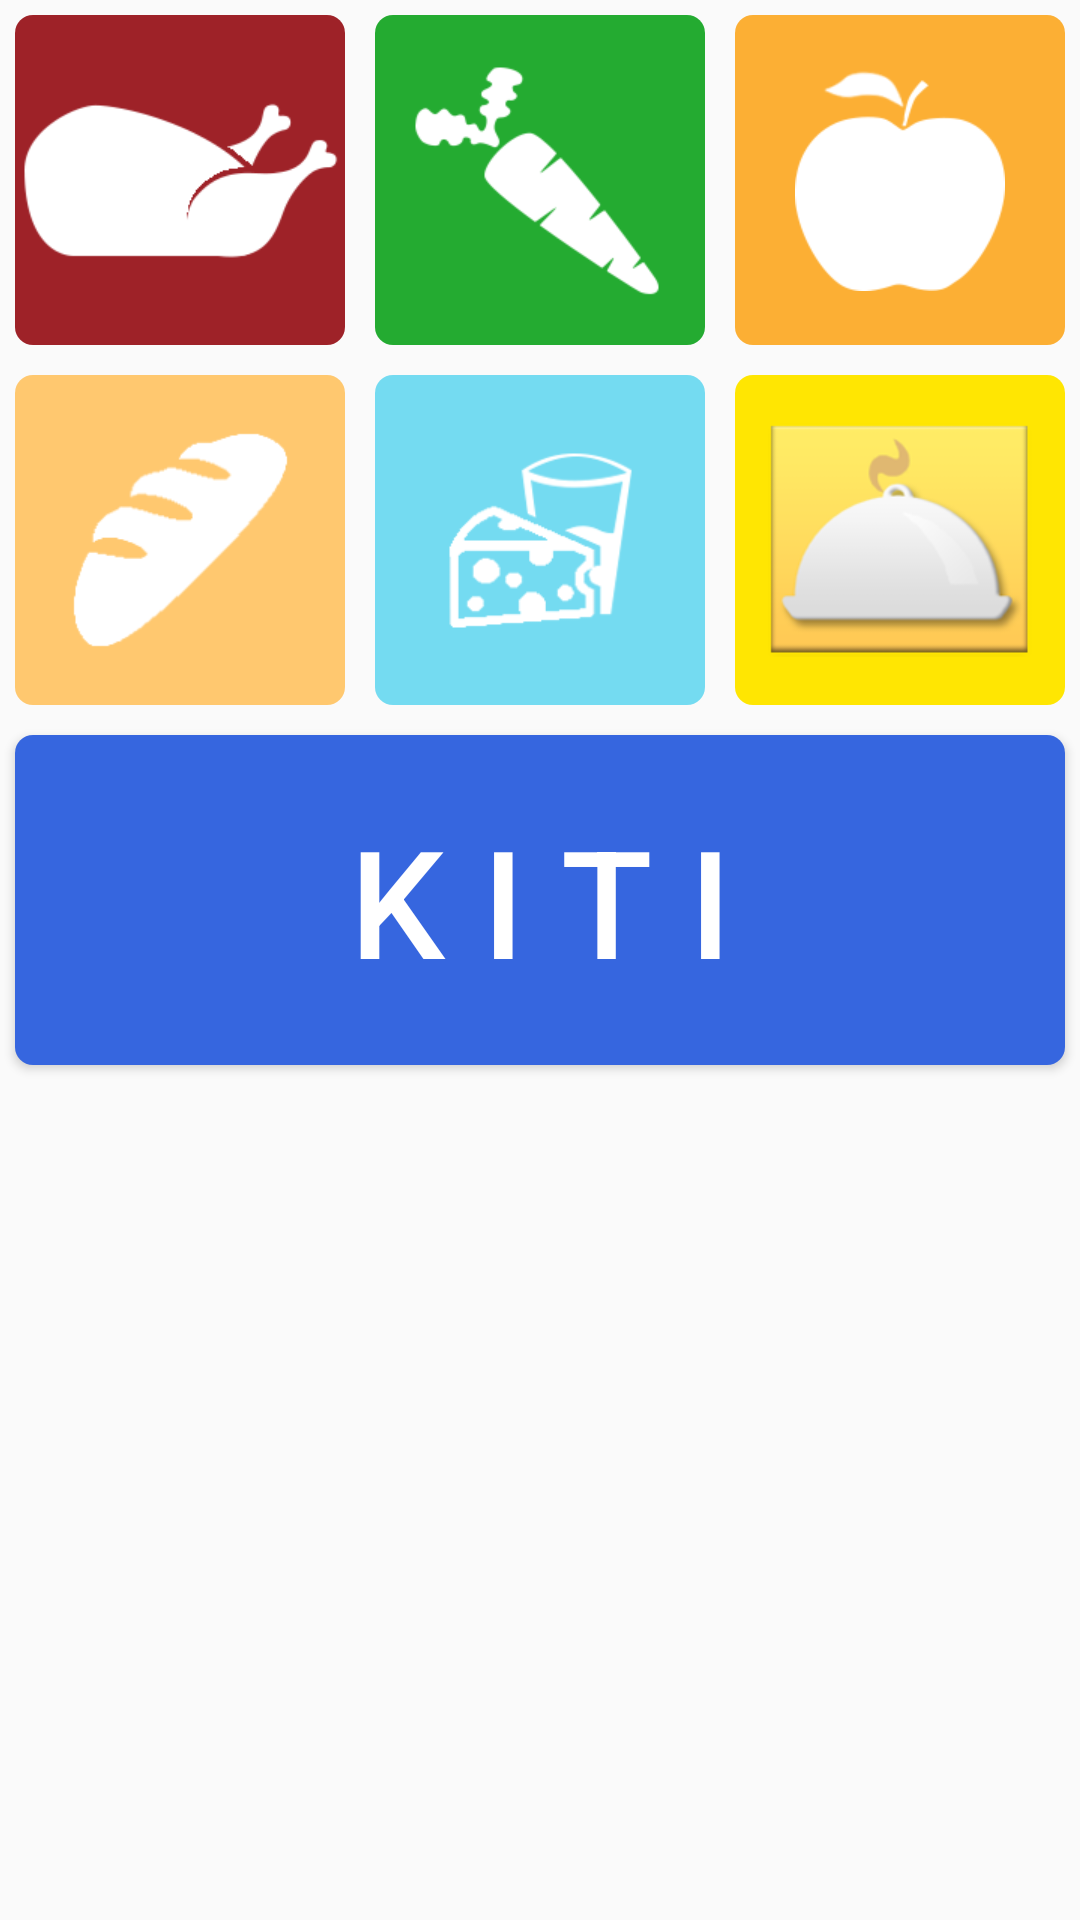

Icon bounding boxes for this 1080 × 1920 phone screenshot, format (x1, y1, x2, y2):
duona: (15, 375, 345, 705)
mesa: (15, 15, 345, 345)
morka: (375, 15, 705, 345)
obuolys: (735, 15, 1065, 345)
pienas: (375, 375, 705, 705)
